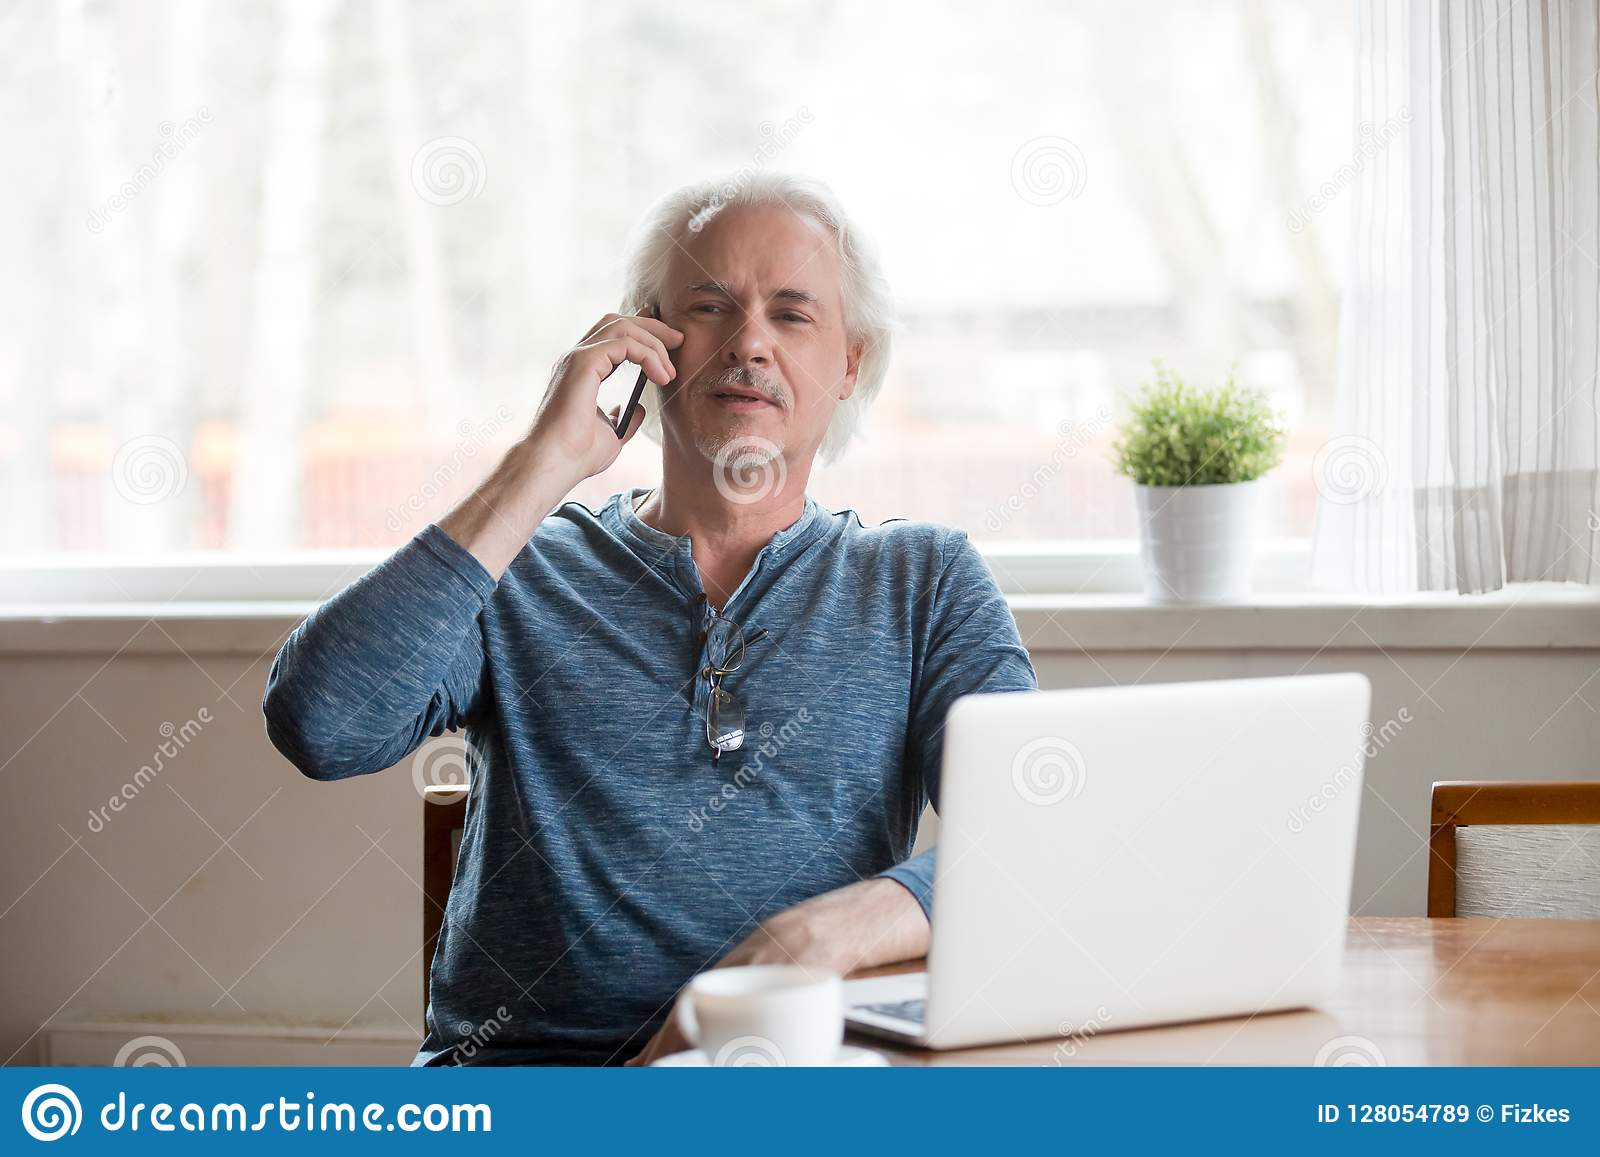phone: (612, 321, 663, 440)
talk: (537, 265, 824, 500)
